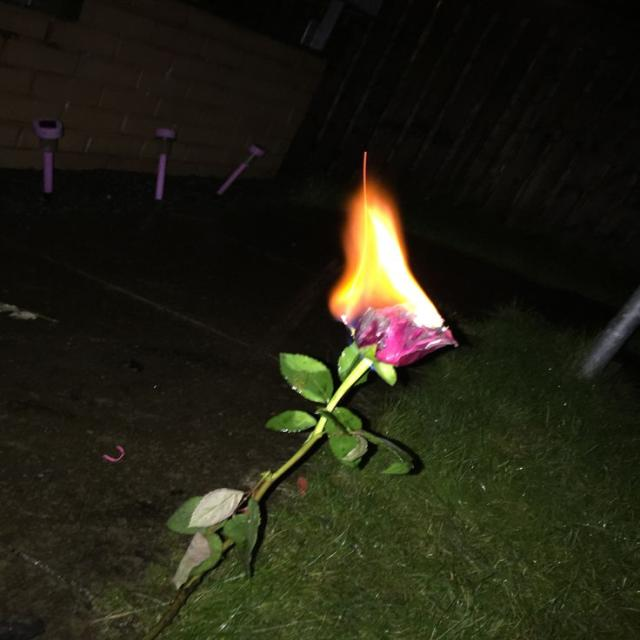fire: (328, 150, 443, 332)
